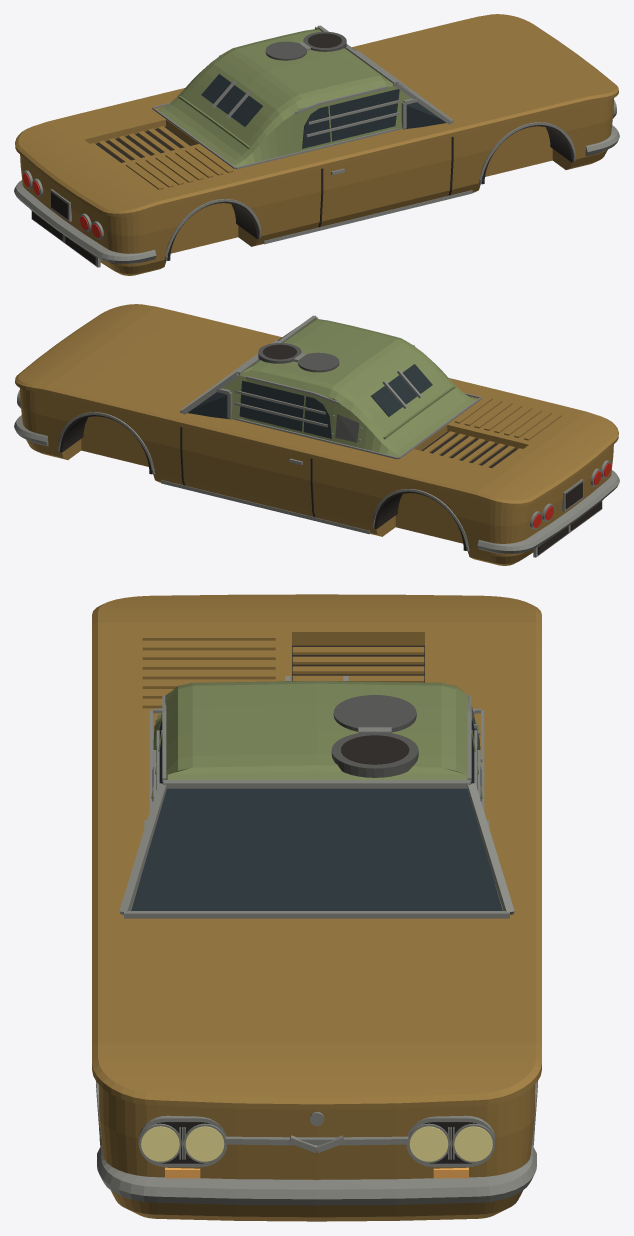
The model's file is base_convertible.glb.
The picture shows the model from 3 angles, top to bottom: view 1: azimuth 30°, elevation 25°; view 2: azimuth 150°, elevation 25°; view 3: azimuth 270°, elevation 25°; orthographic projection. The views are drawn at different scales.
Parts seen in each view (by area): view 1: base_convertible; view 2: base_convertible; view 3: base_convertible.
Part boxes in pixels (x1,y1,x2,y2): base_convertible: [14, 14, 619, 275]; base_convertible: [14, 304, 619, 565]; base_convertible: [92, 594, 541, 1221].
Size of the model in its own units: 5.84 by 1.38 by 2.17.
